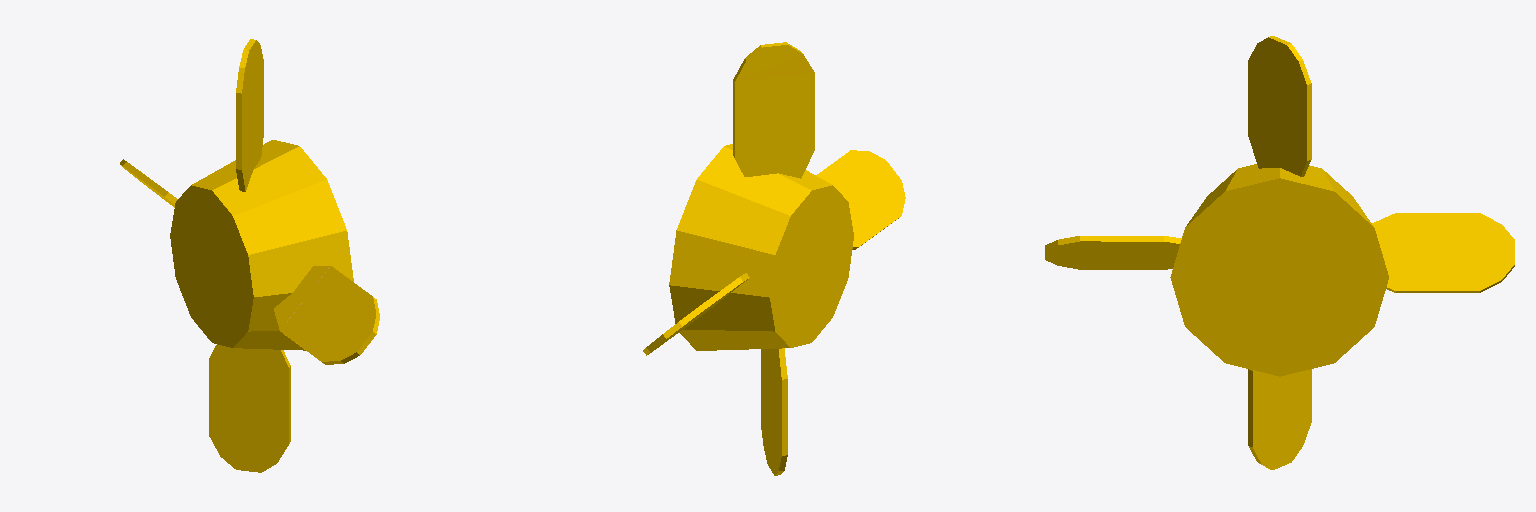
The picture shows the model from 3 angles: view 1: azimuth 30°, elevation 25°; view 2: azimuth 150°, elevation 25°; view 3: azimuth 270°, elevation 25°; orthographic projection.
Visible parts, largest first — view 1: Cube.008_Cube.006_Cube.008_Cube.011; view 2: Cube.008_Cube.006_Cube.008_Cube.011; view 3: Cube.008_Cube.006_Cube.008_Cube.011.
Part boxes in pixels (bbox=[...]): Cube.008_Cube.006_Cube.008_Cube.011: bbox=[120, 39, 379, 472]; Cube.008_Cube.006_Cube.008_Cube.011: bbox=[643, 42, 905, 475]; Cube.008_Cube.006_Cube.008_Cube.011: bbox=[1045, 36, 1514, 469].
Bounding box in the file's own units: 0.01 × 0.046 × 0.046.
1 materials, 1 textured.